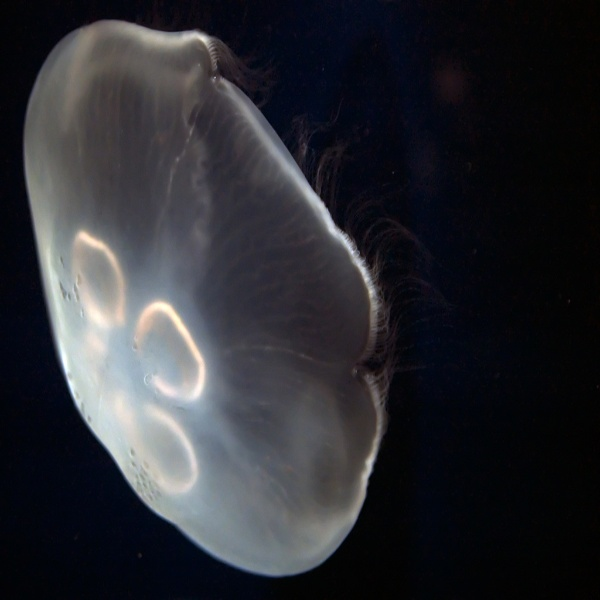Jellyfish: (22, 18, 456, 577)
